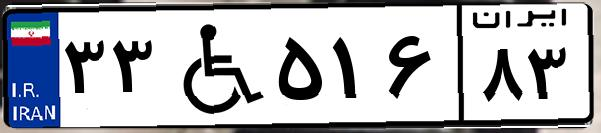1: (330, 28, 385, 110)
3: (57, 26, 110, 100), (525, 38, 570, 115), (110, 28, 158, 98)
5: (270, 28, 330, 110)
6: (385, 28, 445, 110)
8: (475, 38, 525, 113)
ژ (معلولین و جانبازان): (158, 12, 270, 120)
